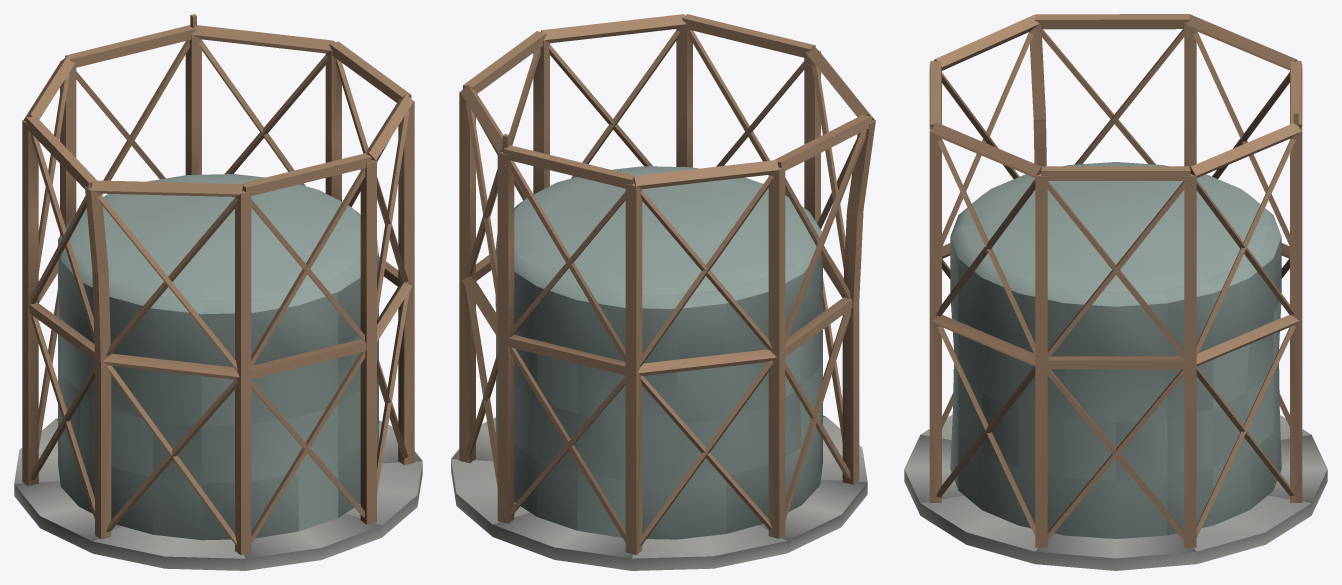
Rendered from gas_holder_lod1.glb.
3 views of the same model, side by side, from view 1: azimuth 30°, elevation 25°; view 2: azimuth 150°, elevation 25°; view 3: azimuth 270°, elevation 25° (orthographic). The views are drawn at different scales.
Visible parts, largest first — view 1: static; view 2: static; view 3: static.
Part boxes in pixels (x1,y1,x2,y2): static: (14,14,422,570); static: (451,14,875,570); static: (904,14,1327,570).
Bounding box in the file's own units: 13.8 × 14.4 × 13.8.
